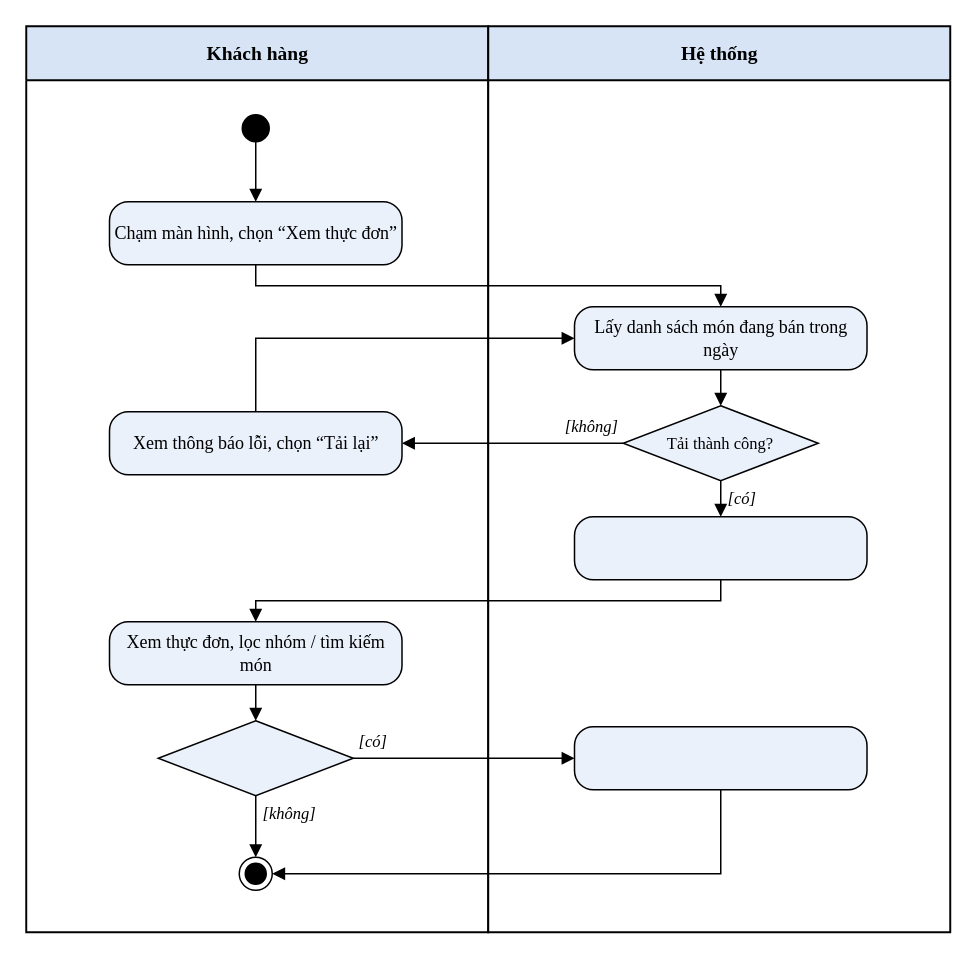
Some shapes in this 978 by 960 pixel diagram are drawn without their labels. Here are the shapes that lost their labels. From the top down, the centre of each, then its label:
point (720, 547): Hiển thị thực đơn theo nhóm (tên, hình ảnh, giá)
point (255, 757): Xem chi tiết món?
point (720, 757): Hiển thị thông tin chi tiết món
